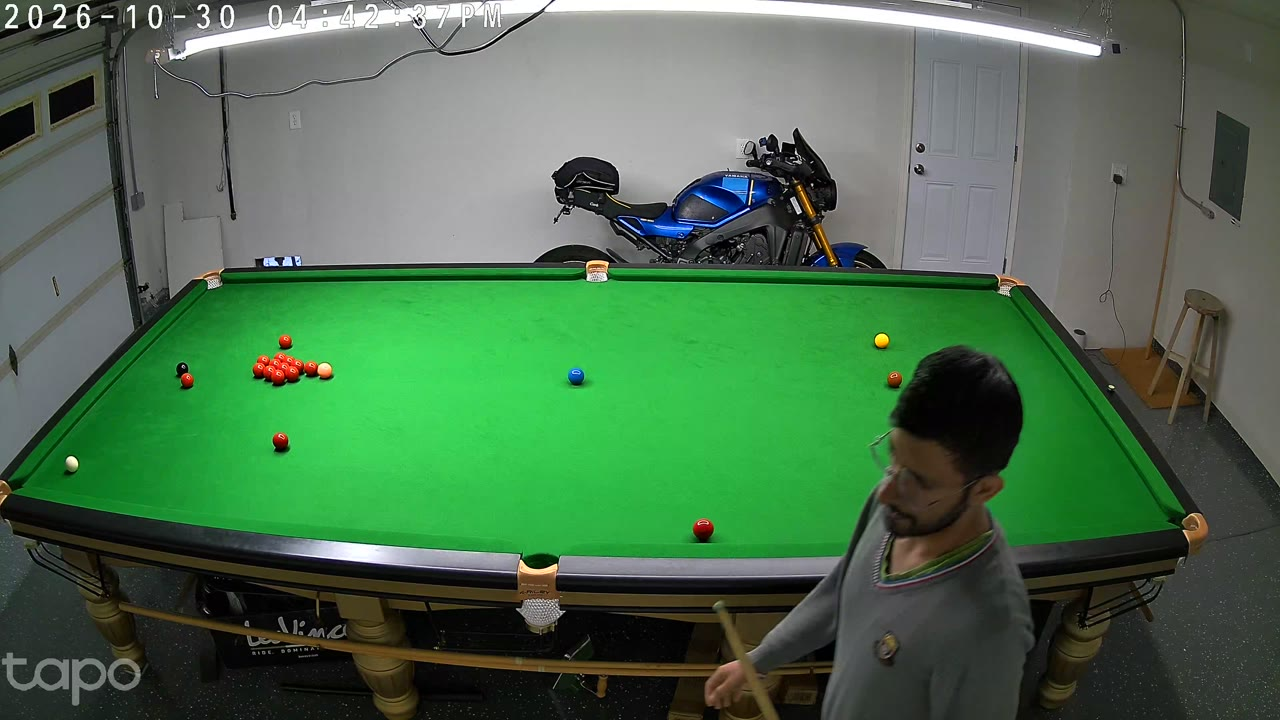black: (176, 361, 189, 380)
blue: (568, 366, 585, 389)
brown: (887, 370, 902, 392)
pink: (319, 361, 331, 381)
red: (692, 515, 714, 547), (273, 431, 289, 453), (181, 371, 193, 391), (287, 365, 298, 384), (254, 362, 265, 380), (279, 334, 292, 349), (272, 369, 284, 384), (305, 361, 317, 376), (264, 366, 275, 380), (258, 354, 270, 366), (293, 359, 304, 372), (269, 359, 281, 368), (285, 355, 295, 365), (278, 362, 289, 371), (275, 352, 285, 361)
white: (65, 454, 79, 475)
yellow: (875, 332, 889, 351)
